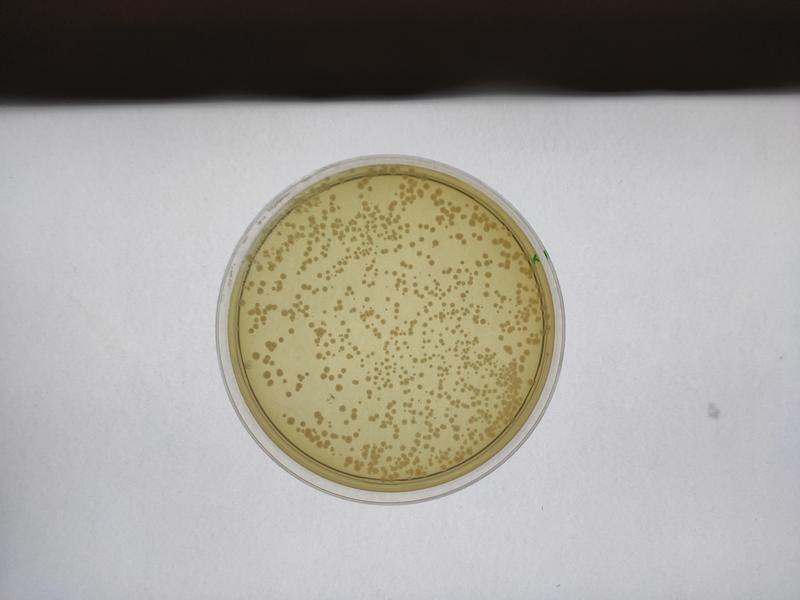colony: (333, 402, 349, 416), (285, 325, 296, 337)
